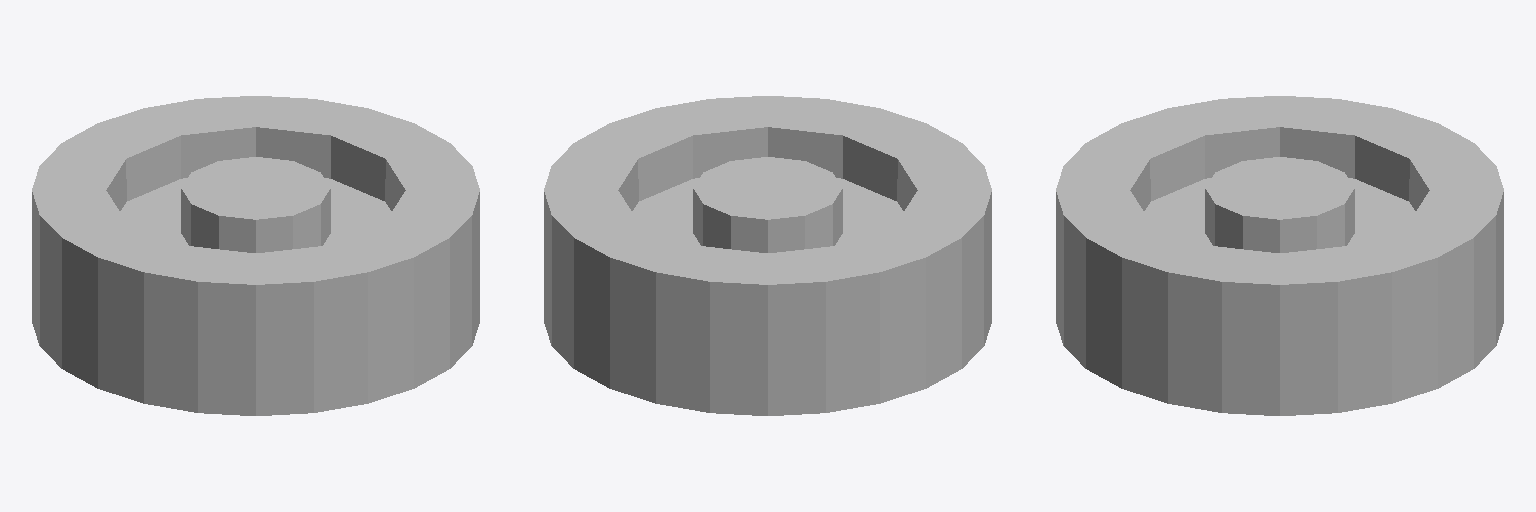
Rendered from block_flywheel_1_3.obj.
3 views of the same model, side by side, from view 1: azimuth 30°, elevation 25°; view 2: azimuth 150°, elevation 25°; view 3: azimuth 270°, elevation 25° (orthographic).
Visible parts, largest first — view 1: Cylinder; view 2: Cylinder; view 3: Cylinder.
Boxes of the visible parts, box(x1,y1,x2,y2) form: Cylinder: box(32, 96, 479, 415); Cylinder: box(544, 96, 991, 415); Cylinder: box(1056, 96, 1503, 415).
Size of the model in its own units: 0.3 by 0.1 by 0.3.